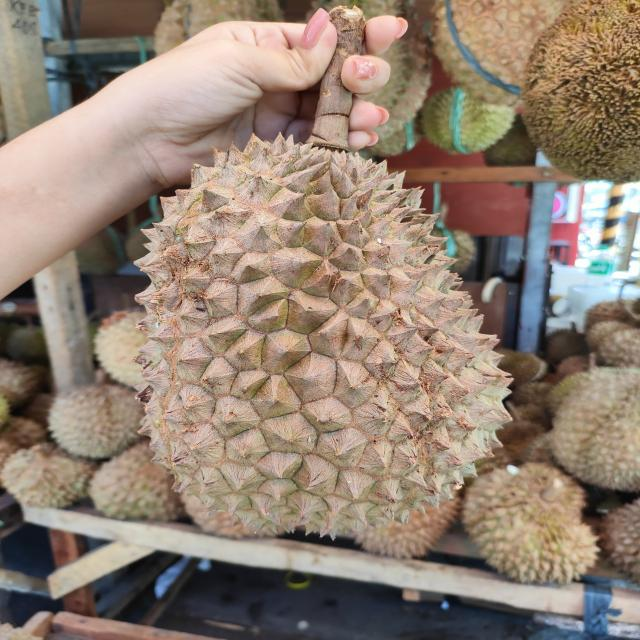mature: (129, 134, 513, 544)
